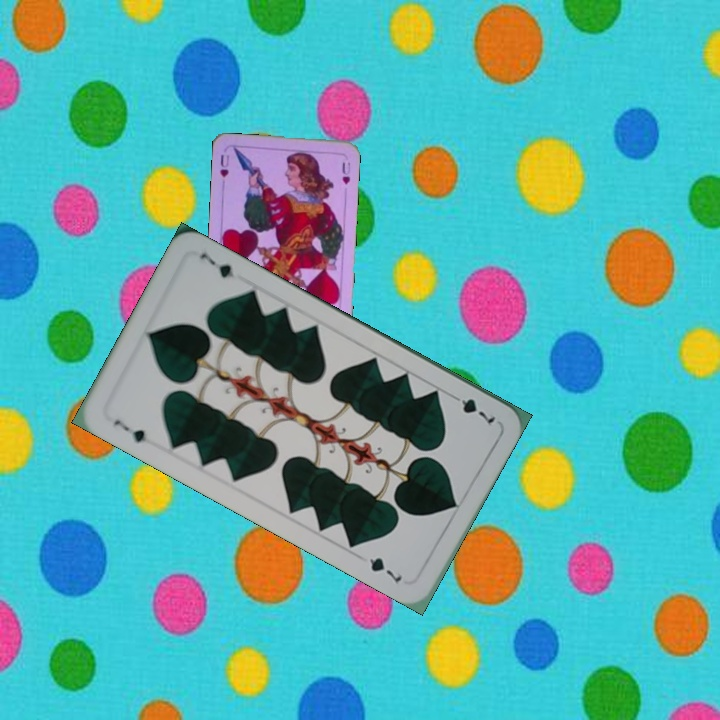G7: (445, 389, 499, 428), (110, 415, 149, 445)
HU: (216, 151, 231, 180)
